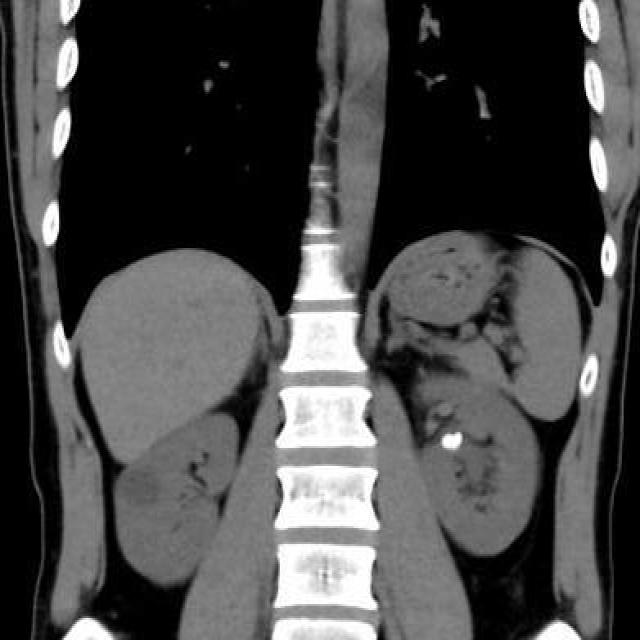Tas_Var: (441, 429, 466, 451)
